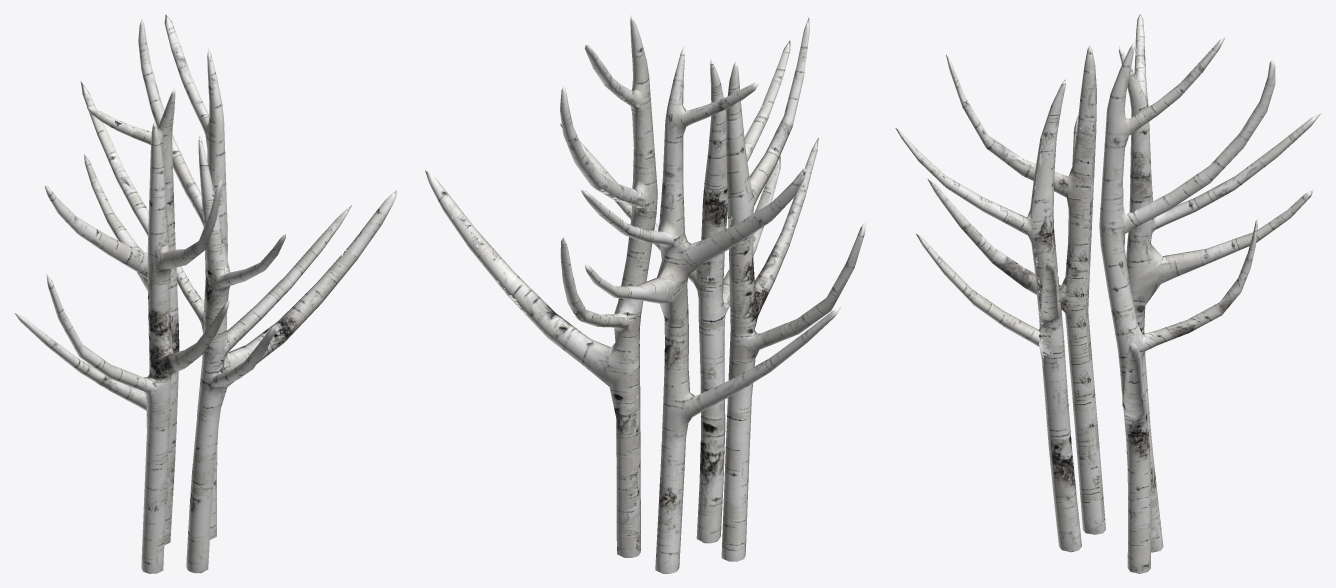
Rendered from tree2.fbx.
The picture shows the model from 3 angles, left to right: view 1: azimuth 30°, elevation 25°; view 2: azimuth 150°, elevation 25°; view 3: azimuth 270°, elevation 25°; orthographic projection. The views are drawn at different scales.
Parts seen in each view (by area): view 1: tree2; view 2: tree2; view 3: tree2.
Boxes of the visible parts, x1,y1,x2,y2 form: tree2: [14, 14, 396, 573]; tree2: [425, 14, 866, 573]; tree2: [895, 14, 1321, 573].
Size of the model in its own units: 7.62 by 9.44 by 6.85.
1 material, 1 textured.
